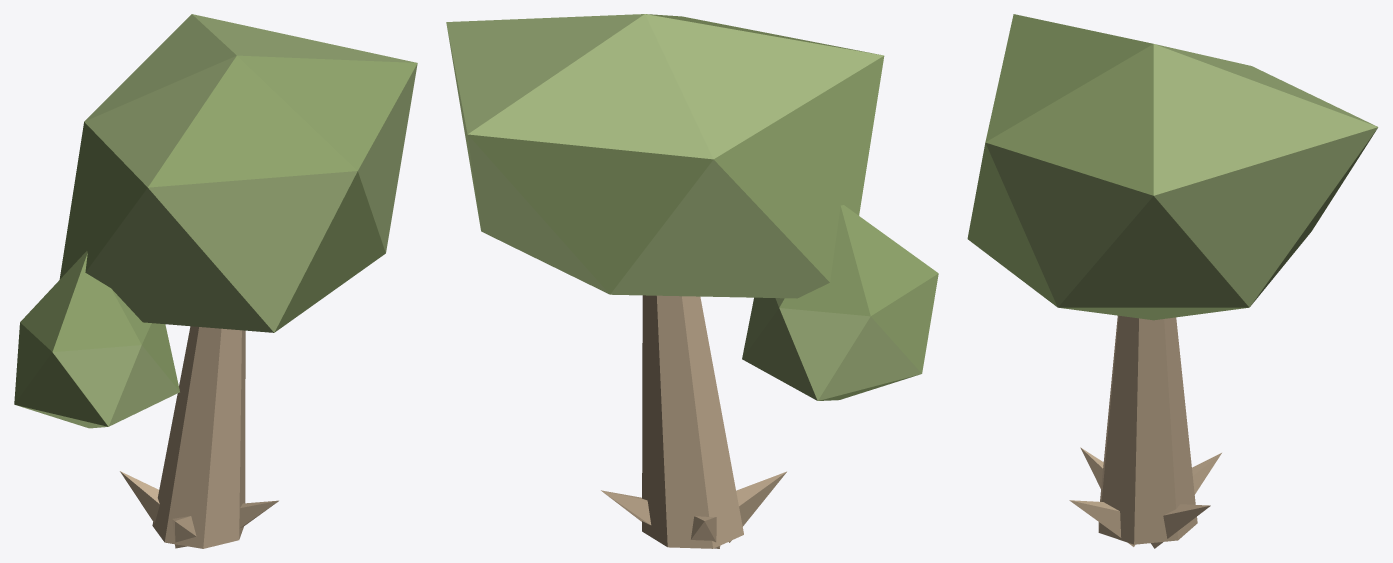
The model's file is tree_young.glb.
The picture shows the model from 3 angles, left to right: view 1: azimuth 30°, elevation 25°; view 2: azimuth 150°, elevation 25°; view 3: azimuth 270°, elevation 25°; orthographic projection. The views are drawn at different scales.
Visible parts, largest first — view 1: tree_young; view 2: tree_young; view 3: tree_young.
Part boxes in pixels (x1,y1,x2,y2): tree_young: (14, 14, 417, 548); tree_young: (446, 14, 938, 548); tree_young: (967, 14, 1378, 548).
Size of the model in its own units: 3.27 by 3.52 by 2.56.
